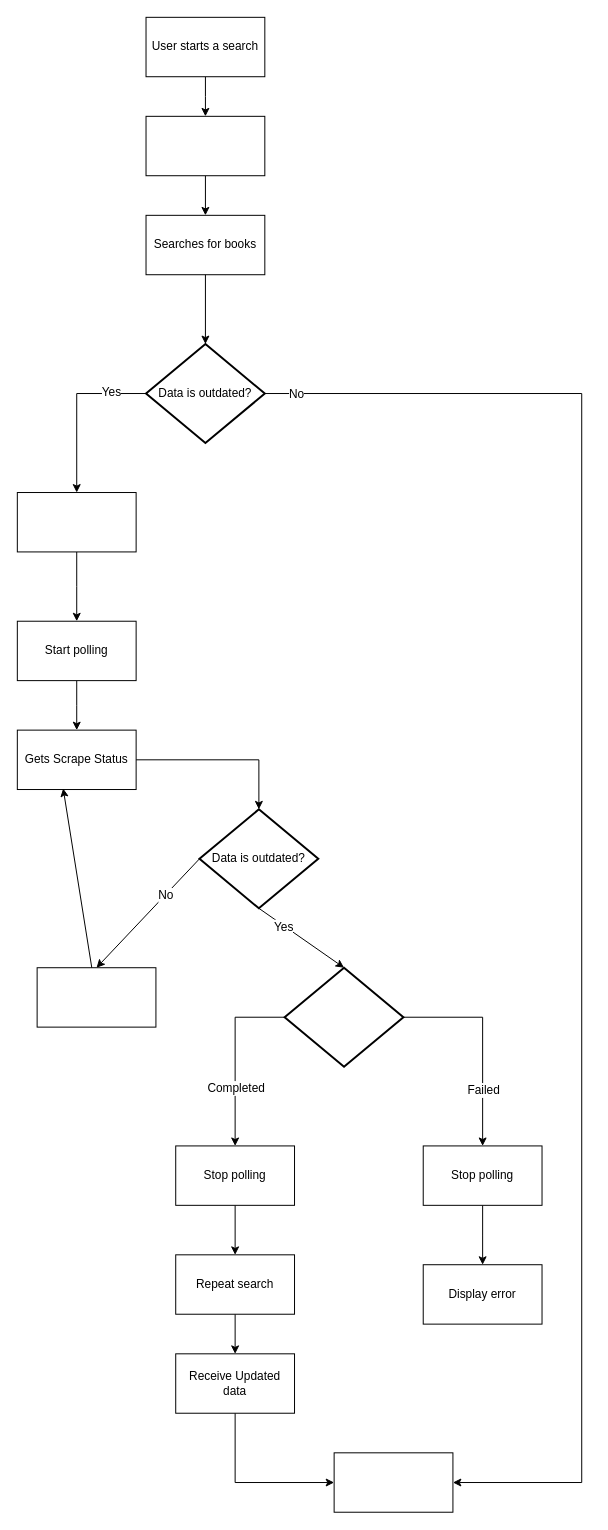
Some shapes in this 608 by 1530 pixel diagram are drawn without their labels. Here are the shapes that lost their labels. From the top down, the centre of each, then its label:
At [205,145]: "Frontend".
At [76,522]: "Receives current outdated state and run id".
At [96,997]: "Wait for polling interval".
At [343,1016]: "Result".
At [393,1482]: "Display results".
